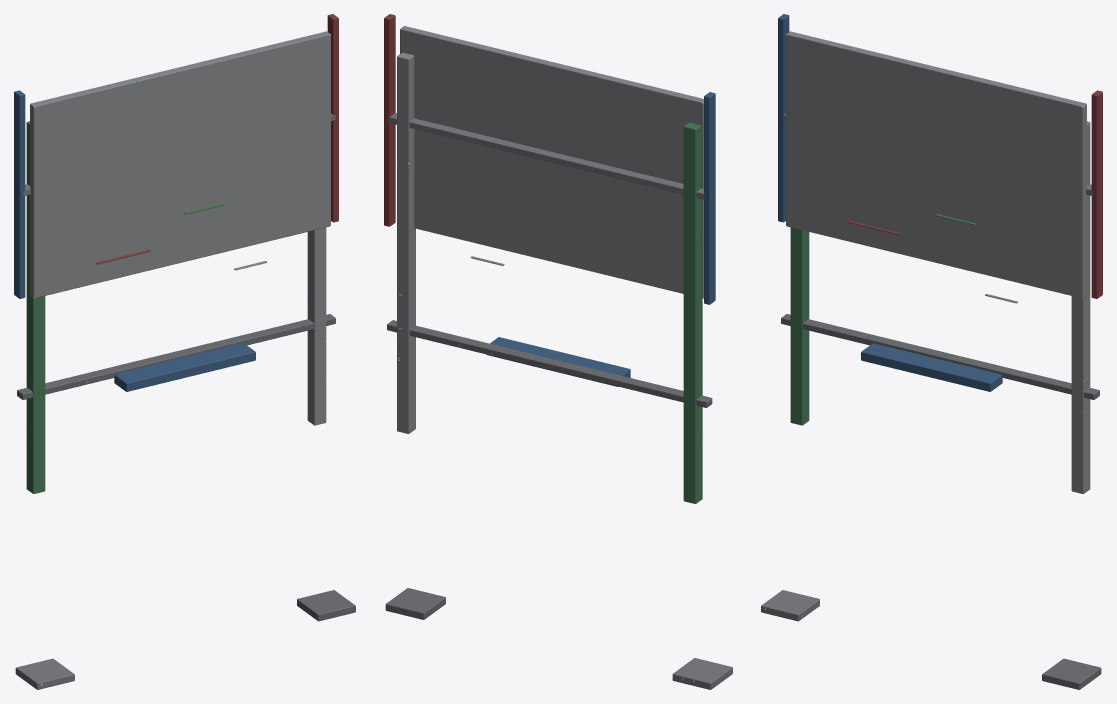
File: mesh_prop-whiteboard.glb
The picture shows the model from 3 angles, left to right: view 1: azimuth 30°, elevation 25°; view 2: azimuth 150°, elevation 25°; view 3: azimuth 330°, elevation 25°; orthographic projection. The views are drawn at different scales.
Parts seen in each view (by area): view 1: mesh_prop-whiteboard; view 2: mesh_prop-whiteboard; view 3: mesh_prop-whiteboard.
Part boxes in pixels (<box>): mesh_prop-whiteboard: <box>14,14,355,689</box>; mesh_prop-whiteboard: <box>384,14,732,689</box>; mesh_prop-whiteboard: <box>761,14,1102,689</box>.
Size of the model in its own units: 1.18 by 2.06 by 0.1525.
1 material, 1 textured.
